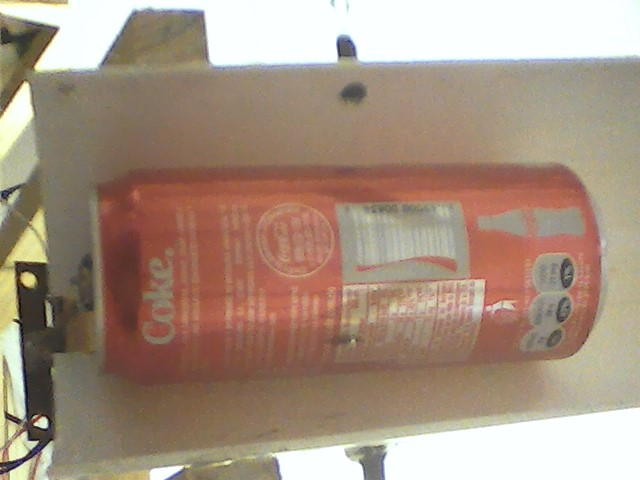lata: (78, 159, 615, 386)
